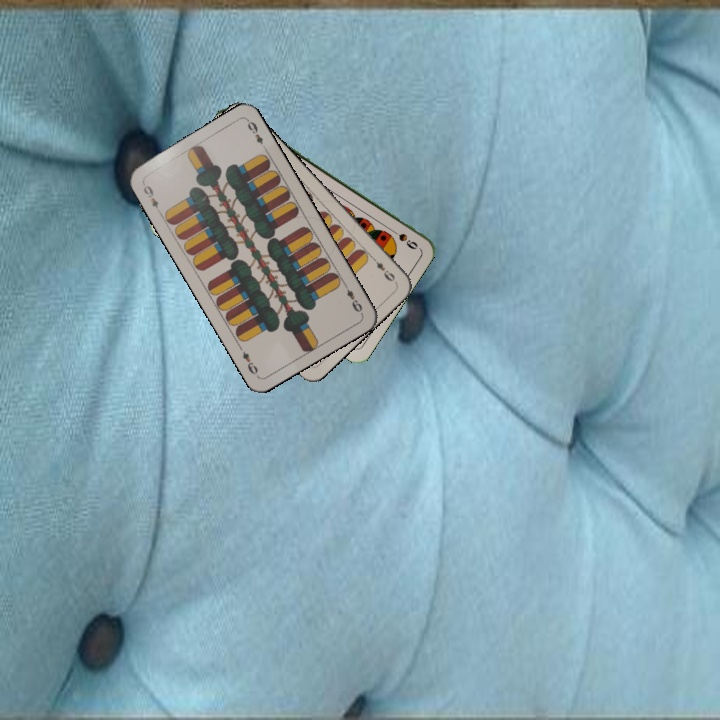E9: (138, 179, 164, 216), (367, 253, 398, 284), (340, 279, 365, 315)
S9: (385, 224, 421, 252)
